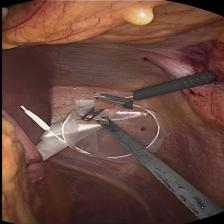Grasper: (75, 100, 108, 124), (93, 92, 132, 109)
Specimen Bag: (18, 100, 170, 172)
